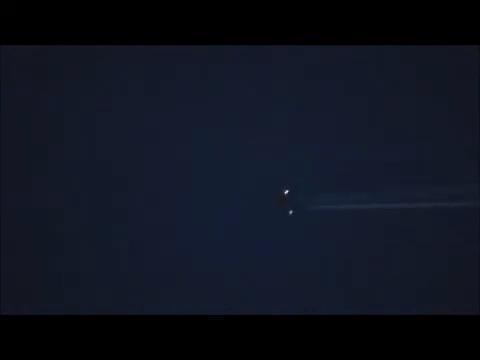Plane: (254, 178, 478, 229)
